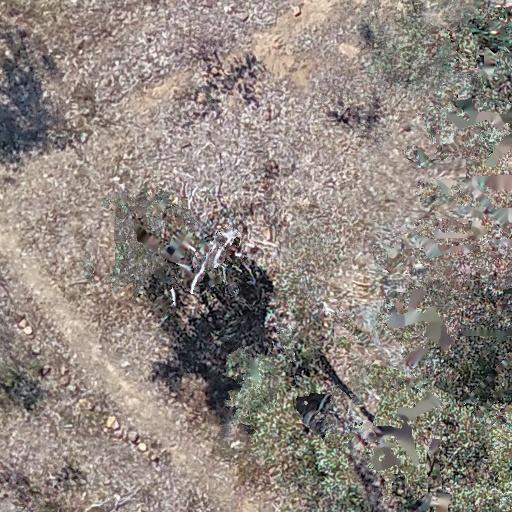stone: (101, 417, 124, 431), (80, 394, 96, 413), (56, 368, 70, 385), (22, 326, 36, 339), (16, 314, 28, 328), (294, 1, 301, 18), (138, 442, 148, 452)
